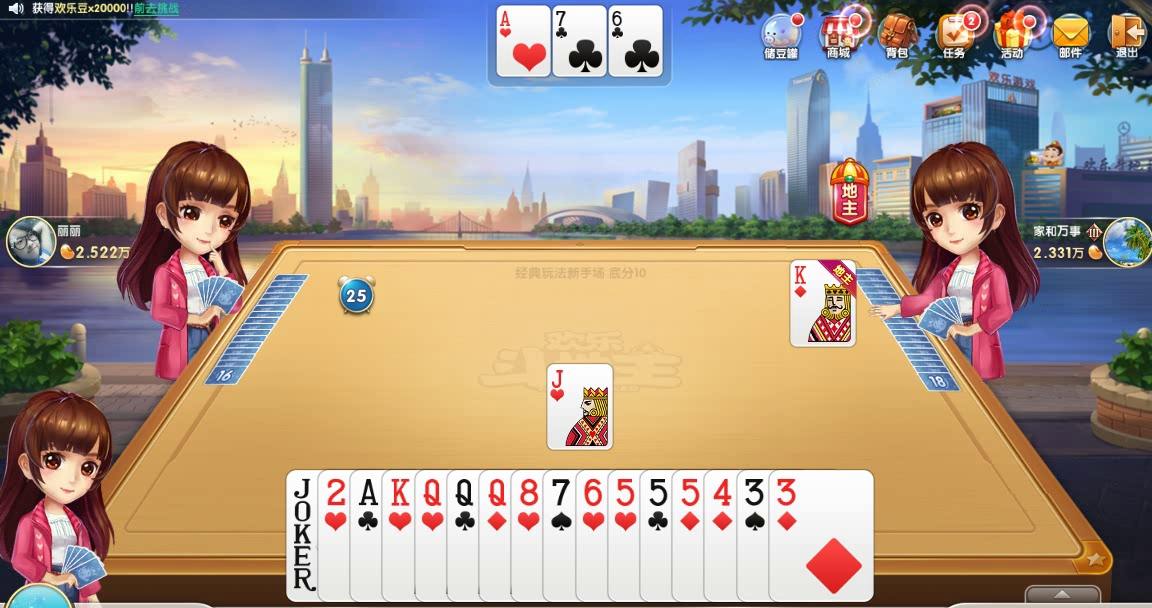11~3: (546, 362, 612, 450)
12~1: (478, 468, 584, 602)
12~2: (446, 468, 552, 602)
12~3: (414, 468, 520, 602)
13~1: (789, 258, 857, 348)
13~3: (380, 468, 486, 602)
14~2: (349, 469, 455, 603)
14~3: (495, 1, 550, 78)
15~3: (316, 469, 422, 603)
17~3: (285, 469, 391, 603)
3~1: (768, 470, 874, 604)
3~4: (736, 469, 842, 603)
4~1: (702, 469, 808, 603)
5~1: (671, 469, 777, 603)
5~2: (638, 468, 744, 602)
5~3: (608, 468, 714, 602)
6~2: (607, 2, 662, 79)
6~3: (576, 468, 682, 602)
7~2: (551, 2, 606, 79)
7~4: (543, 468, 649, 602)
8~3: (510, 468, 616, 602)
